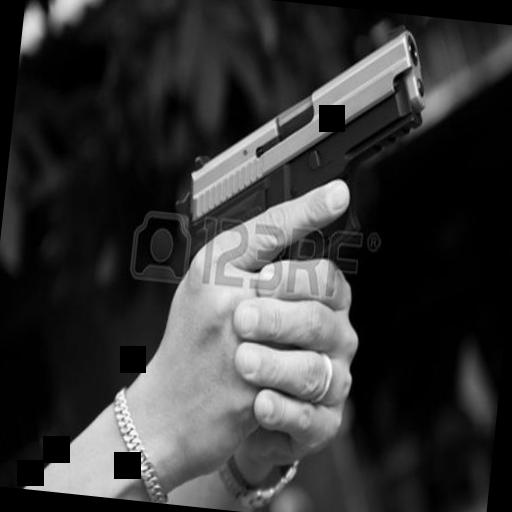Handgun: (174, 2, 442, 344)
